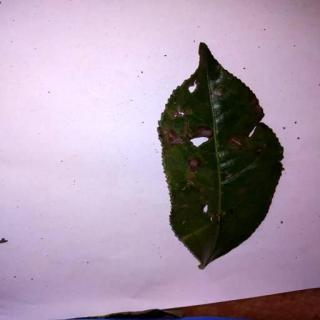Anthracnose: (161, 42, 286, 271)
